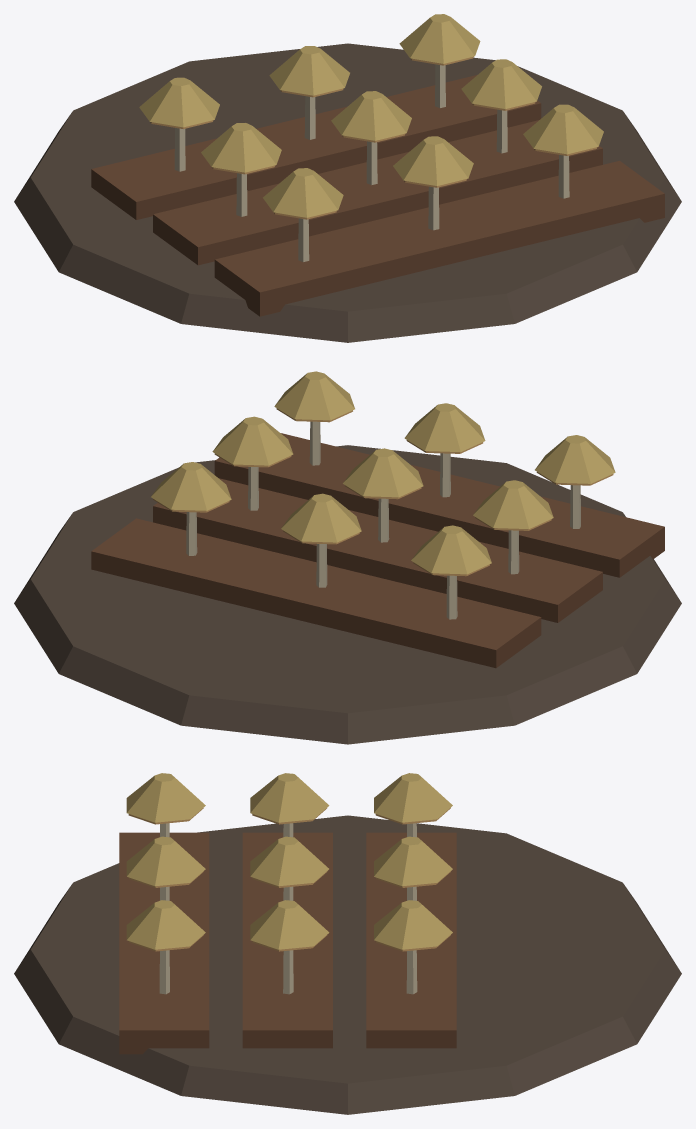
The model's file is Field_Food_2.fbx.
The picture shows the model from 3 angles, top to bottom: view 1: azimuth 30°, elevation 25°; view 2: azimuth 150°, elevation 25°; view 3: azimuth 270°, elevation 25°; orthographic projection.
Parts seen in each view (by area): view 1: Field_Food_2; view 2: Field_Food_2; view 3: Field_Food_2.
Boxes of the visible parts, x1=… form: Field_Food_2: x1=14, y1=14, x2=681, y2=342; Field_Food_2: x1=14, y1=371, x2=681, y2=744; Field_Food_2: x1=14, y1=773, x2=681, y2=1114.
Size of the model in its own units: 2 by 0.4292 by 2.
Materials: 1 (1 with a texture image).
